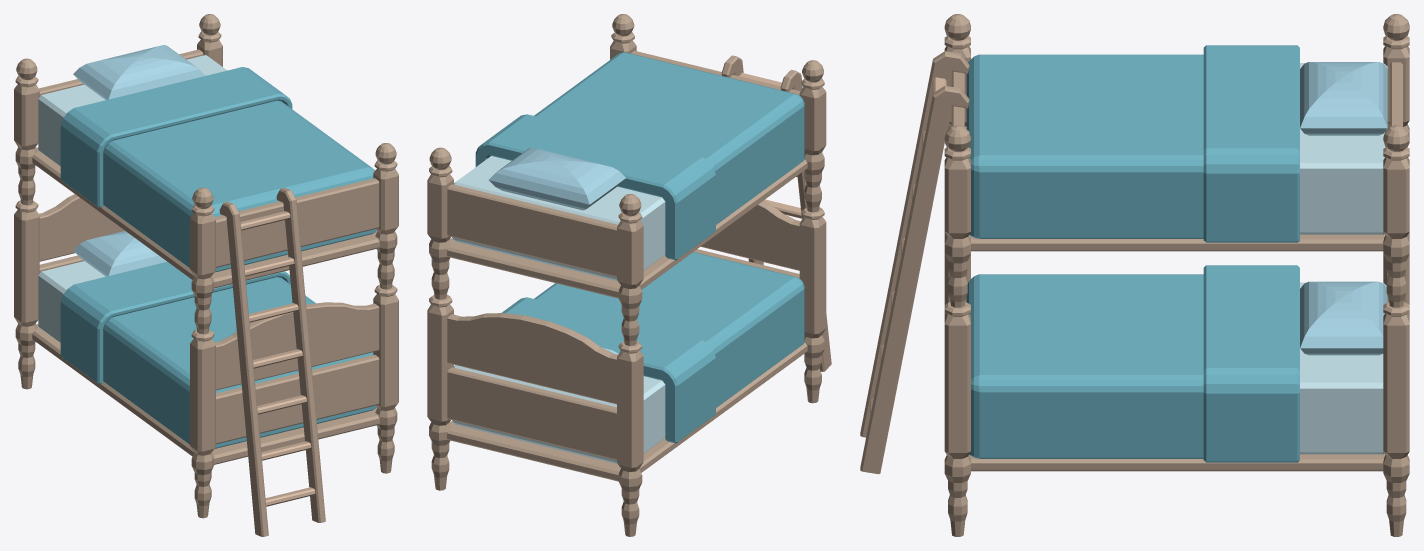
The model's file is Prop_Bedroom_Bed_Bunk.fbx.
The picture shows the model from 3 angles, left to right: view 1: azimuth 30°, elevation 25°; view 2: azimuth 150°, elevation 25°; view 3: azimuth 270°, elevation 25°; orthographic projection. The views are drawn at different scales.
Parts seen in each view (by area): view 1: object8, object6, object3.002, object7, object1.006, object4.002, object2.004, object5.001; view 2: object8, object6, object3.002, object1.006, object4.002, object5.001, object7; view 3: object6, object3.002, object8, object7, object4.002, object5.001, object1.006, object2.004.
Part boxes in pixels (<box>): object8: <box>14,14,398,518</box>; object6: <box>60,67,376,272</box>; object3.002: <box>60,261,376,448</box>; object7: <box>219,187,325,536</box>; object1.006: <box>73,45,205,99</box>; object4.002: <box>38,55,226,166</box>; object2.004: <box>73,231,166,276</box>; object5.001: <box>38,261,105,342</box>; object8: <box>427,14,826,536</box>; object6: <box>475,52,804,260</box>; object3.002: <box>502,252,804,443</box>; object1.006: <box>489,147,625,210</box>; object4.002: <box>452,156,665,281</box>; object5.001: <box>452,365,665,464</box>; object7: <box>721,55,831,371</box>; object6: <box>966,45,1299,242</box>; object3.002: <box>966,265,1299,462</box>; object8: <box>944,14,1409,536</box>; object7: <box>860,51,969,474</box>; object4.002: <box>1300,63,1387,234</box>; object5.001: <box>1300,282,1386,454</box>; object1.006: <box>1300,62,1387,135</box>; object2.004: <box>1300,281,1387,355</box>.
Bounding box in the file's own units: 141 × 220 × 268.
